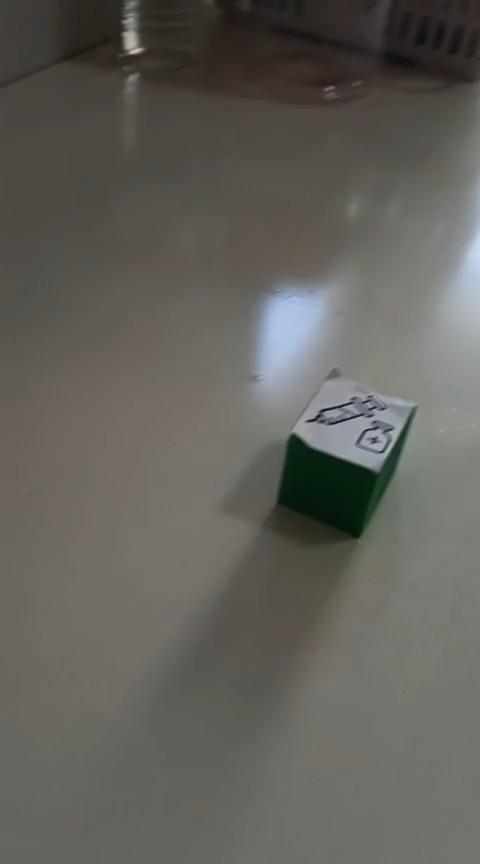antiseptic cream: (274, 365, 419, 539)
